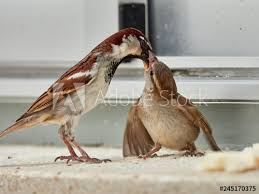hsparrow: (1, 25, 152, 166), (133, 54, 221, 154)
